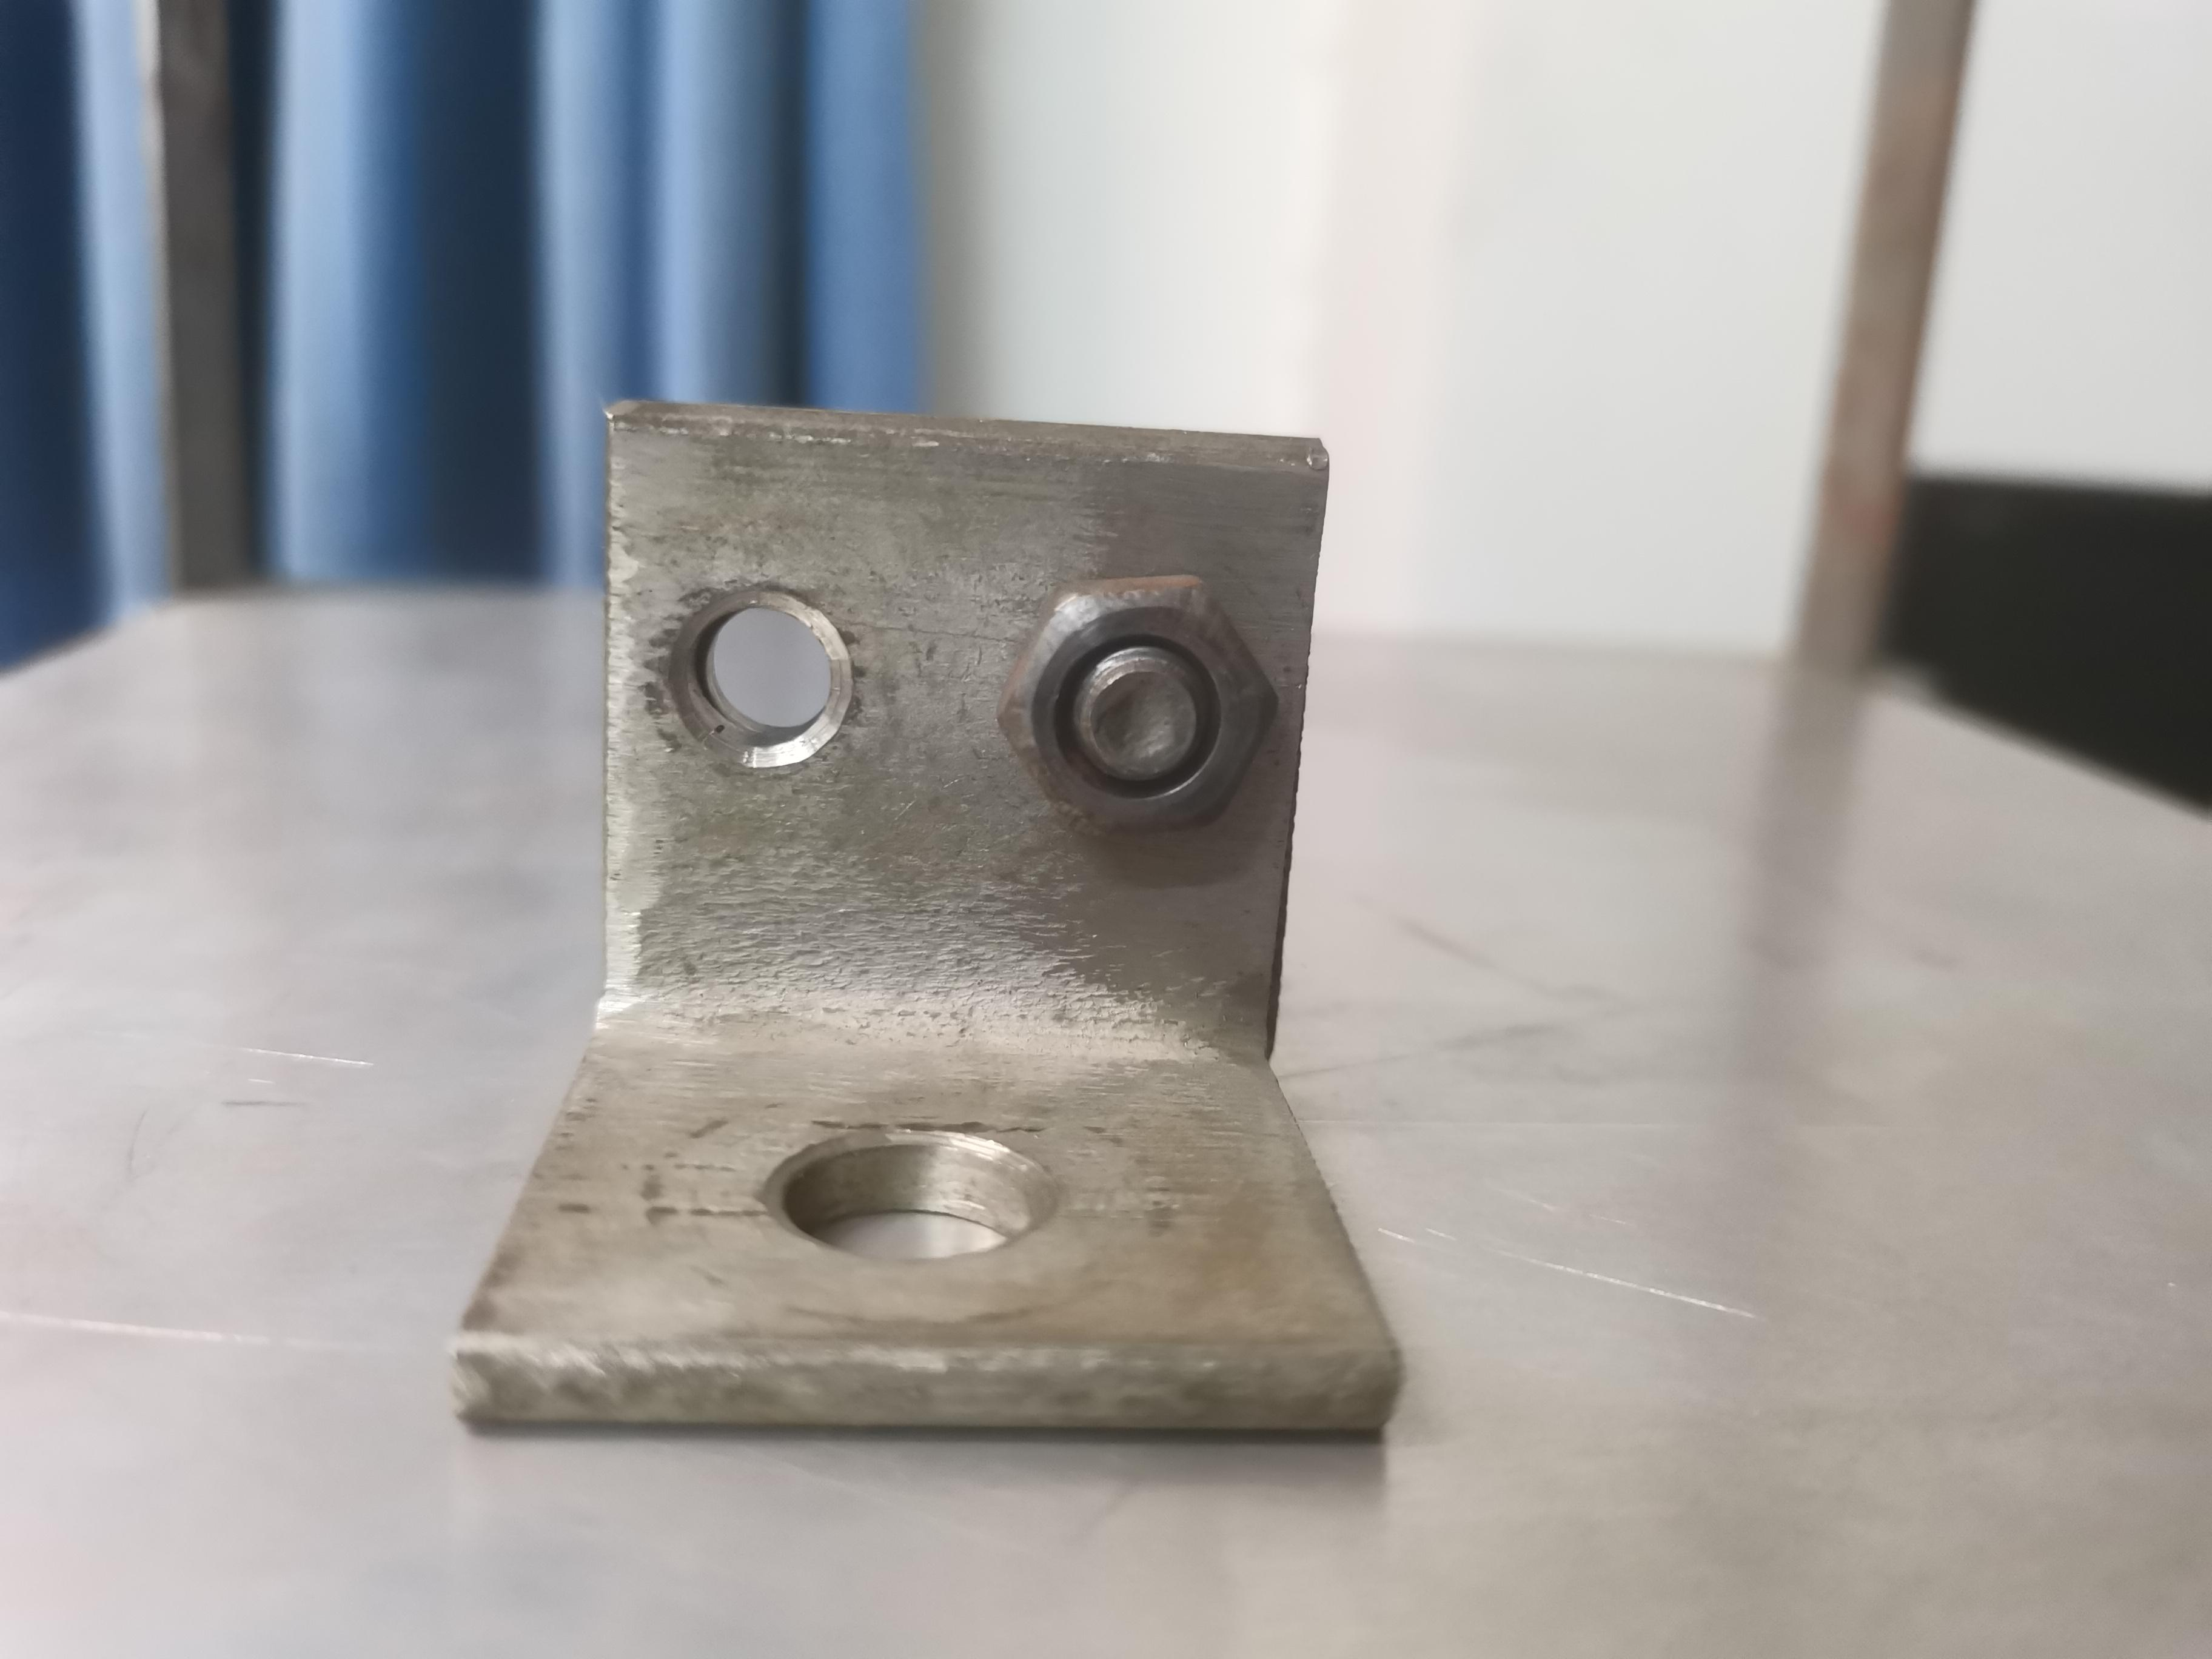bolt_b: (998, 568, 1282, 833)
